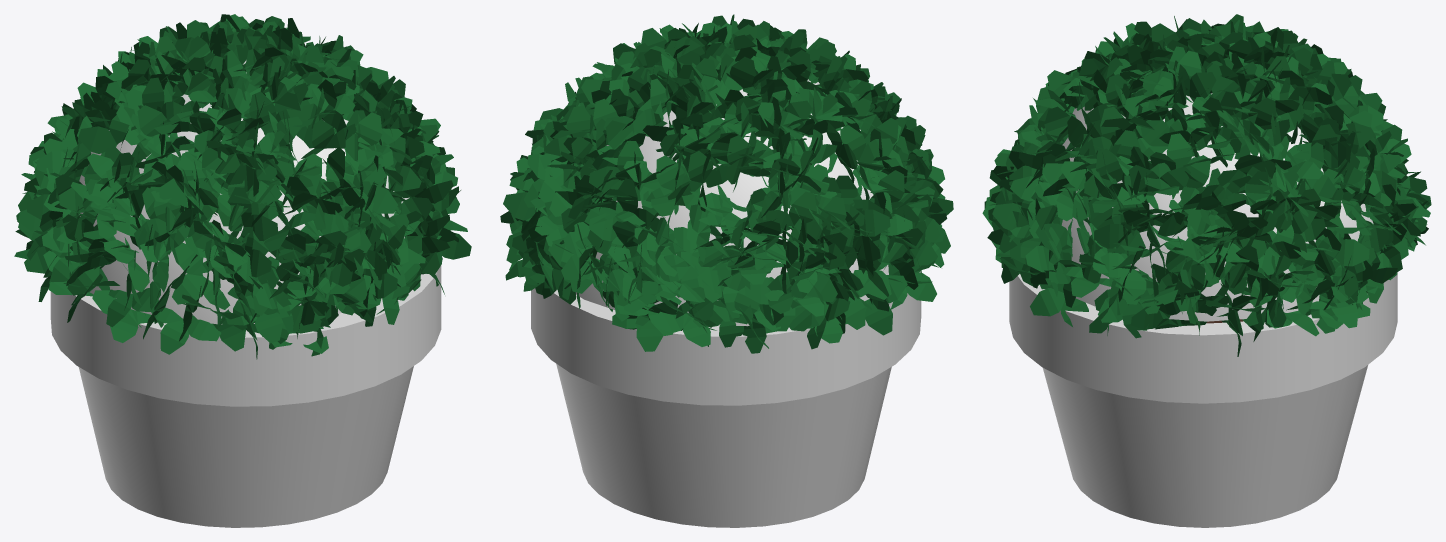
Rendered from plante en pot blanc.fbx.
3 views of the same model, side by side, from view 1: azimuth 30°, elevation 25°; view 2: azimuth 150°, elevation 25°; view 3: azimuth 270°, elevation 25° (orthographic).
Parts seen in each view (by area): view 1: Cylinder, Cylinder.001, Sphere, Sphere|leaf|Dupli|415, Sphere|leaf|Dupli|674, Sphere|leaf|Dupli|305, Sphere|leaf|Dupli|4, Sphere|leaf|Dupli|478, Sphere|leaf|Dupli|601, Sphere|leaf|Dupli|644, Sphere|leaf|Dupli|429, Sphere|leaf|Dupli|209 (+48 smaller); view 2: Cylinder, Cylinder.001, Sphere, Sphere|leaf|Dupli|107, Sphere|leaf|Dupli|120, Sphere|leaf|Dupli|266, Sphere|leaf|Dupli|13, Sphere|leaf|Dupli|684, Sphere|leaf|Dupli|613, Sphere|leaf|Dupli|466, Sphere|leaf|Dupli|332, Sphere|leaf|Dupli|322 (+51 smaller); view 3: Cylinder, Cylinder.001, Sphere, Sphere|leaf|Dupli|665, Sphere|leaf|Dupli|174, Sphere|leaf|Dupli|544, Sphere|leaf|Dupli|344, Sphere|leaf|Dupli|314, Sphere|leaf|Dupli|41, Sphere|leaf|Dupli|211, Sphere|leaf|Dupli|368, Sphere|leaf|Dupli|158 (+54 smaller).
Boxes of the visible parts, bbox=[...] form: Cylinder: bbox=[78, 366, 413, 527]; Cylinder.001: bbox=[50, 265, 441, 406]; Sphere: bbox=[79, 60, 409, 324]; Sphere|leaf|Dupli|415: bbox=[172, 242, 230, 309]; Sphere|leaf|Dupli|674: bbox=[151, 307, 221, 354]; Sphere|leaf|Dupli|305: bbox=[78, 107, 135, 156]; Sphere|leaf|Dupli|4: bbox=[92, 290, 157, 342]; Sphere|leaf|Dupli|478: bbox=[106, 288, 158, 327]; Sphere|leaf|Dupli|601: bbox=[132, 105, 193, 162]; Sphere|leaf|Dupli|644: bbox=[227, 187, 278, 241]; Sphere|leaf|Dupli|429: bbox=[301, 119, 356, 158]; Sphere|leaf|Dupli|209: bbox=[226, 298, 300, 343]; Cylinder: bbox=[556, 363, 891, 527]; Cylinder.001: bbox=[531, 271, 921, 405]; Sphere: bbox=[575, 79, 888, 326]; Sphere|leaf|Dupli|107: bbox=[757, 191, 830, 240]; Sphere|leaf|Dupli|120: bbox=[642, 155, 690, 215]; Sphere|leaf|Dupli|266: bbox=[652, 310, 710, 346]; Sphere|leaf|Dupli|13: bbox=[840, 125, 893, 163]; Sphere|leaf|Dupli|684: bbox=[864, 275, 907, 335]; Sphere|leaf|Dupli|613: bbox=[589, 141, 643, 201]; Sphere|leaf|Dupli|466: bbox=[651, 238, 705, 303]; Sphere|leaf|Dupli|332: bbox=[667, 151, 729, 205]; Sphere|leaf|Dupli|322: bbox=[561, 222, 602, 295]; Cylinder: bbox=[1043, 365, 1367, 527]; Cylinder.001: bbox=[1009, 272, 1397, 403]; Sphere: bbox=[1061, 93, 1373, 321]; Sphere|leaf|Dupli|665: bbox=[1093, 252, 1148, 304]; Sphere|leaf|Dupli|174: bbox=[1030, 278, 1088, 326]; Sphere|leaf|Dupli|544: bbox=[1144, 133, 1200, 199]; Sphere|leaf|Dupli|344: bbox=[1327, 214, 1369, 291]; Sphere|leaf|Dupli|314: bbox=[1035, 220, 1072, 283]; Sphere|leaf|Dupli|41: bbox=[1141, 117, 1194, 159]; Sphere|leaf|Dupli|211: bbox=[1128, 165, 1190, 199]; Sphere|leaf|Dupli|368: bbox=[1211, 218, 1266, 294]; Sphere|leaf|Dupli|158: bbox=[1060, 161, 1091, 221].
Size of the model in its own units: 237 by 247 by 235.
